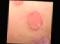plaque psoriasis: (26, 7, 43, 31), (22, 33, 49, 44), (8, 0, 25, 5)
